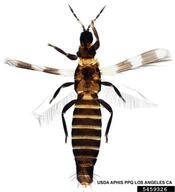Thrips: (9, 1, 160, 186)
